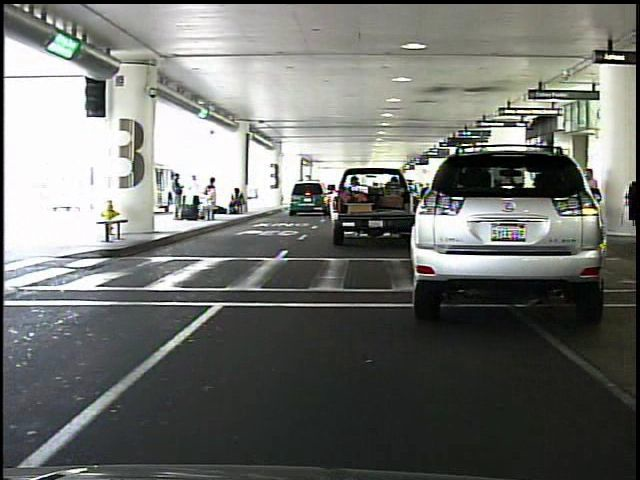person: (580, 165, 604, 241), (170, 171, 190, 224), (631, 172, 637, 241)
